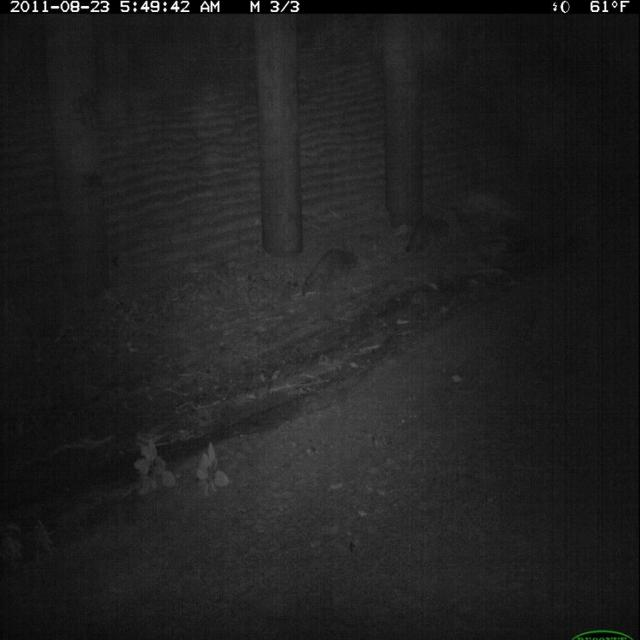raccoon: (298, 241, 362, 303), (399, 211, 456, 265)
